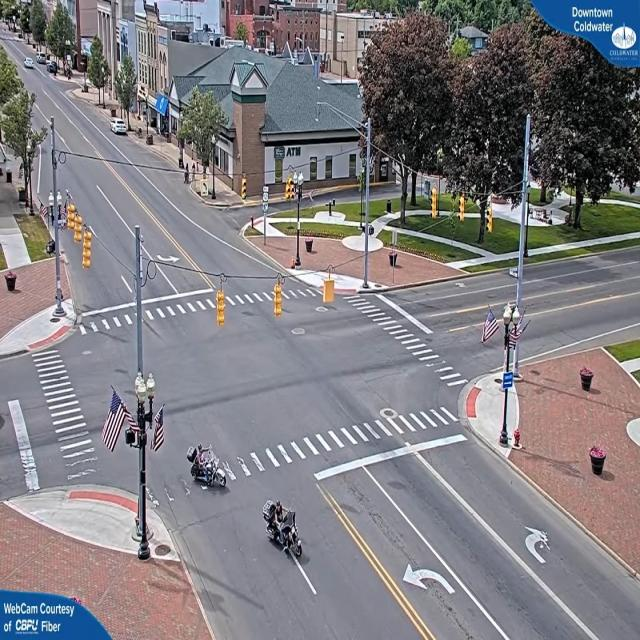car: (111, 120, 130, 138)
motorbike: (261, 485, 305, 565), (182, 437, 225, 495)
